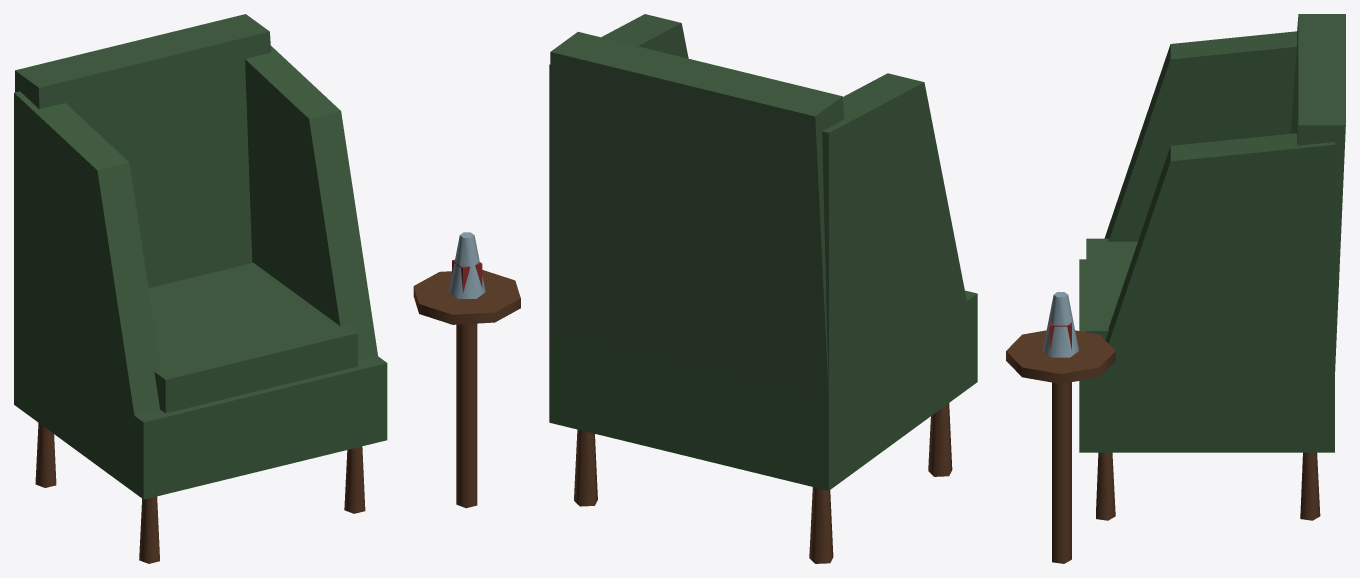
The model's file is wingback_chair.glb.
The picture shows the model from 3 angles, left to right: view 1: azimuth 30°, elevation 25°; view 2: azimuth 150°, elevation 25°; view 3: azimuth 270°, elevation 25°; orthographic projection. The views are drawn at different scales.
Visible parts, largest first — view 1: wingback_chair; view 2: wingback_chair; view 3: wingback_chair.
Boxes of the visible parts, bbox=[...] form: wingback_chair: bbox=[14, 14, 520, 563]; wingback_chair: bbox=[549, 14, 977, 563]; wingback_chair: bbox=[1006, 14, 1345, 563].
Bounding box in the file's own units: 1.13 × 1.2 × 0.93.
1 material, 1 textured.
